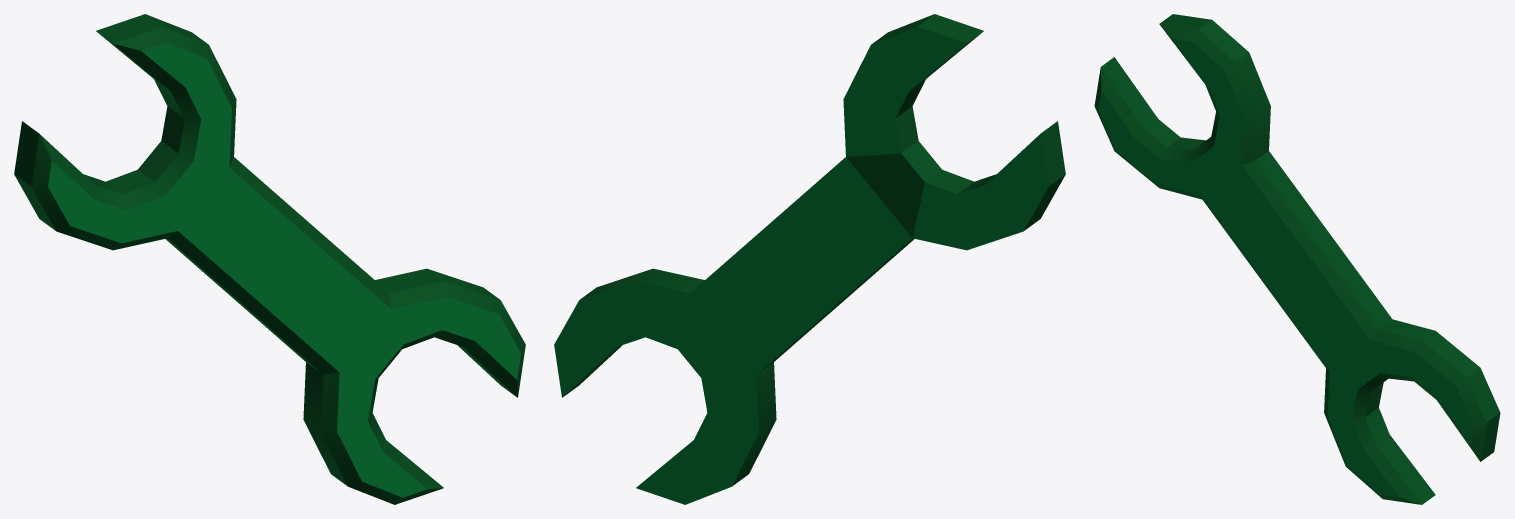
File: Wrench.fbx
3 renders of one model, left to right at view 1: azimuth 30°, elevation 25°; view 2: azimuth 150°, elevation 25°; view 3: azimuth 330°, elevation 25°, orthographic. The views are drawn at different scales.
Parts seen in each view (by area): view 1: Wrench; view 2: Wrench; view 3: Wrench.
Part boxes in pixels (x1=…): Wrench: x1=14, y1=14, x2=525, y2=504; Wrench: x1=554, y1=14, x2=1065, y2=504; Wrench: x1=1094, y1=14, x2=1500, y2=504.
Bounding box in the file's own units: 1.38 × 1.43 × 0.1122.
